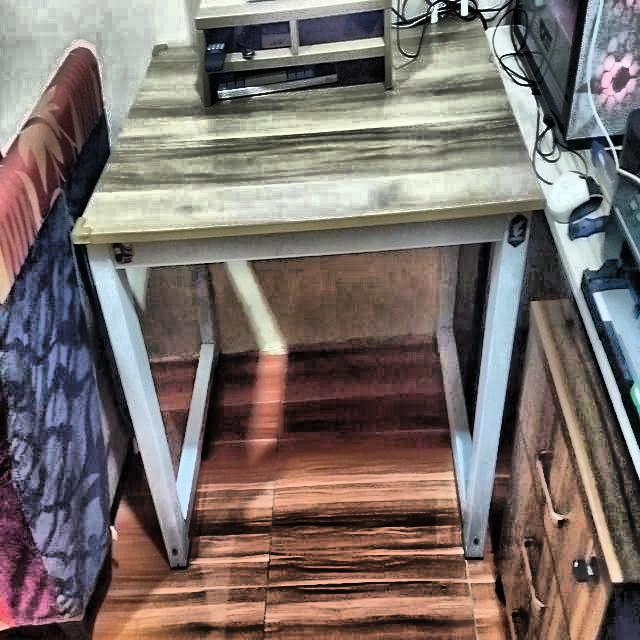mesa: (90, 19, 538, 571)
